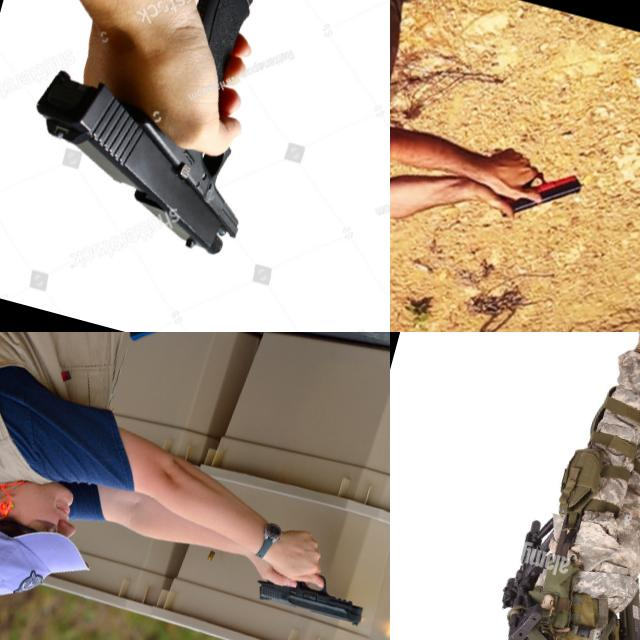handgun: (5, 0, 308, 263), (248, 551, 374, 630), (490, 155, 586, 236)
